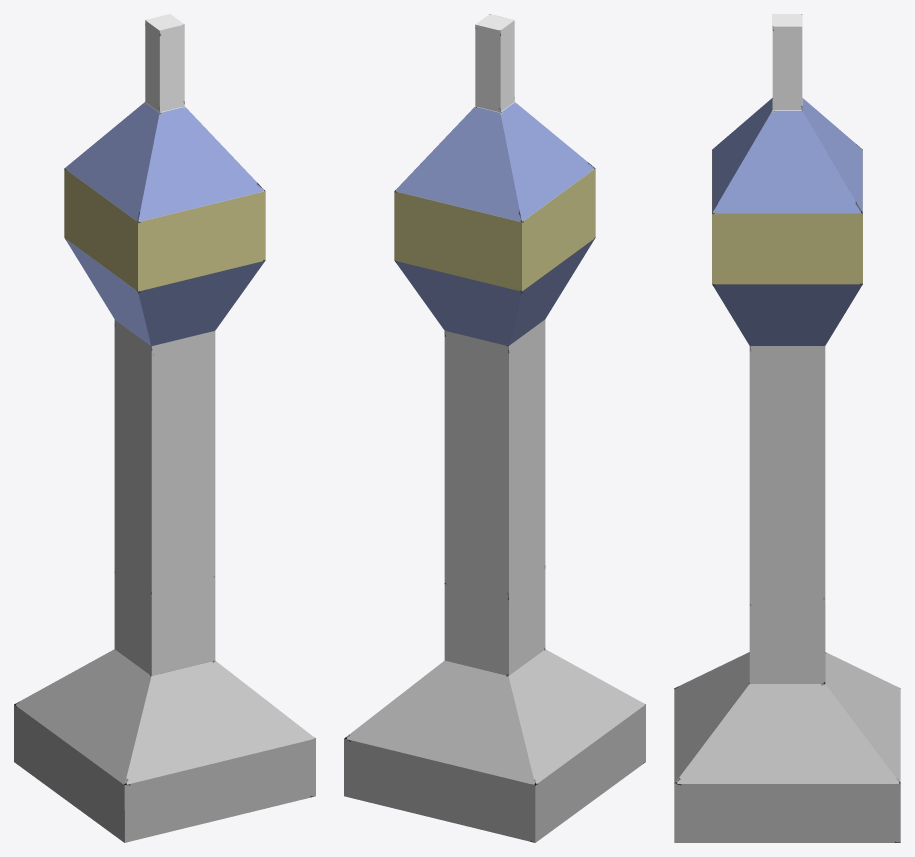
The model's file is Tower.obj.
3 views of the same model, side by side, from view 1: azimuth 30°, elevation 25°; view 2: azimuth 150°, elevation 25°; view 3: azimuth 270°, elevation 25° (orthographic). The views are drawn at different scales.
Visible parts, largest first — view 1: Tower_立方体; view 2: Tower_立方体; view 3: Tower_立方体.
Part boxes in pixels (left/top/right/bottom): Tower_立方体: left=14, top=14, right=315, bottom=842; Tower_立方体: left=344, top=14, right=645, bottom=842; Tower_立方体: left=674, top=14, right=900, bottom=842.
Bounding box in the file's own units: 30 × 113 × 30.
1 material, 1 textured.
